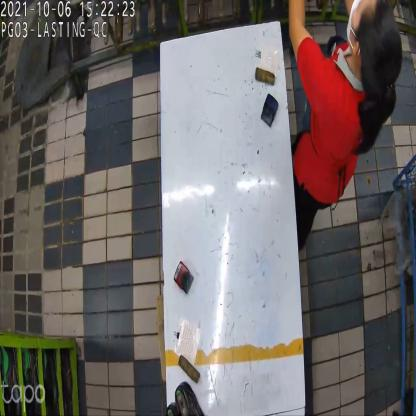stamp: (258, 94, 278, 129), (175, 260, 195, 295)
